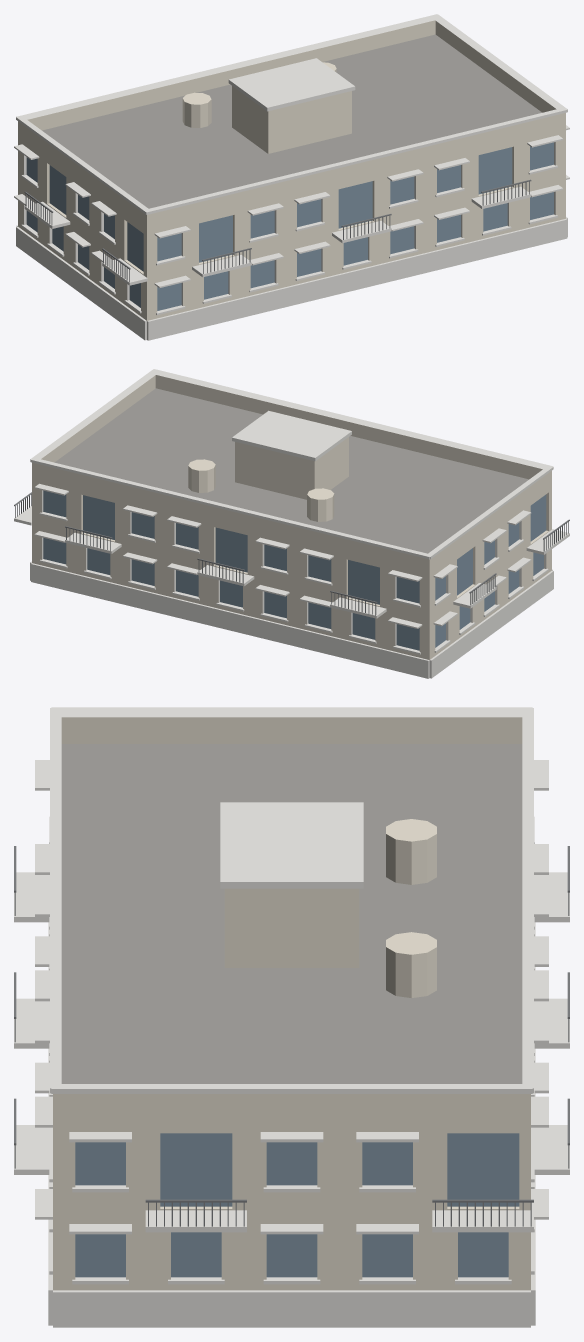
File: West_Building_1.fbx
3 views of the same model, one above another, from view 1: azimuth 30°, elevation 25°; view 2: azimuth 150°, elevation 25°; view 3: azimuth 270°, elevation 25° (orthographic). The views are drawn at different scales.
Visible parts, largest first — view 1: West_Building_1; view 2: West_Building_1; view 3: West_Building_1.
Boxes of the visible parts, <box> form: West_Building_1: <box>14,14,569,340</box>; West_Building_1: <box>14,369,569,678</box>; West_Building_1: <box>14,707,569,1327</box>.
Size of the model in its own units: 32.6 by 10.85 by 18.6.
